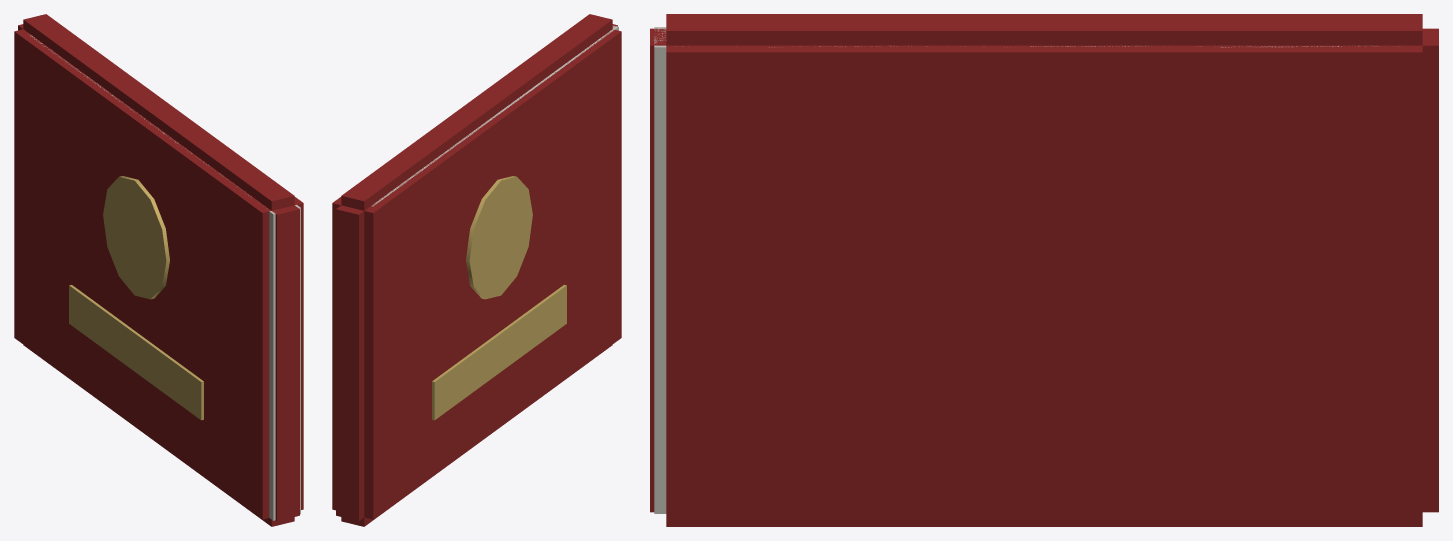
The model's file is item_id_booklet_hand.glb.
The picture shows the model from 3 angles, left to right: view 1: azimuth 30°, elevation 25°; view 2: azimuth 150°, elevation 25°; view 3: azimuth 270°, elevation 25°; orthographic projection. The views are drawn at different scales.
Parts seen in each view (by area): view 1: id_booklet; view 2: id_booklet; view 3: id_booklet.
Part boxes in pixels (x1,y1,x2,y2): id_booklet: (14,14,303,526); id_booklet: (332,14,621,526); id_booklet: (650,14,1438,526).
Size of the model in its own units: 0.0098 by 0.068 by 0.098.
